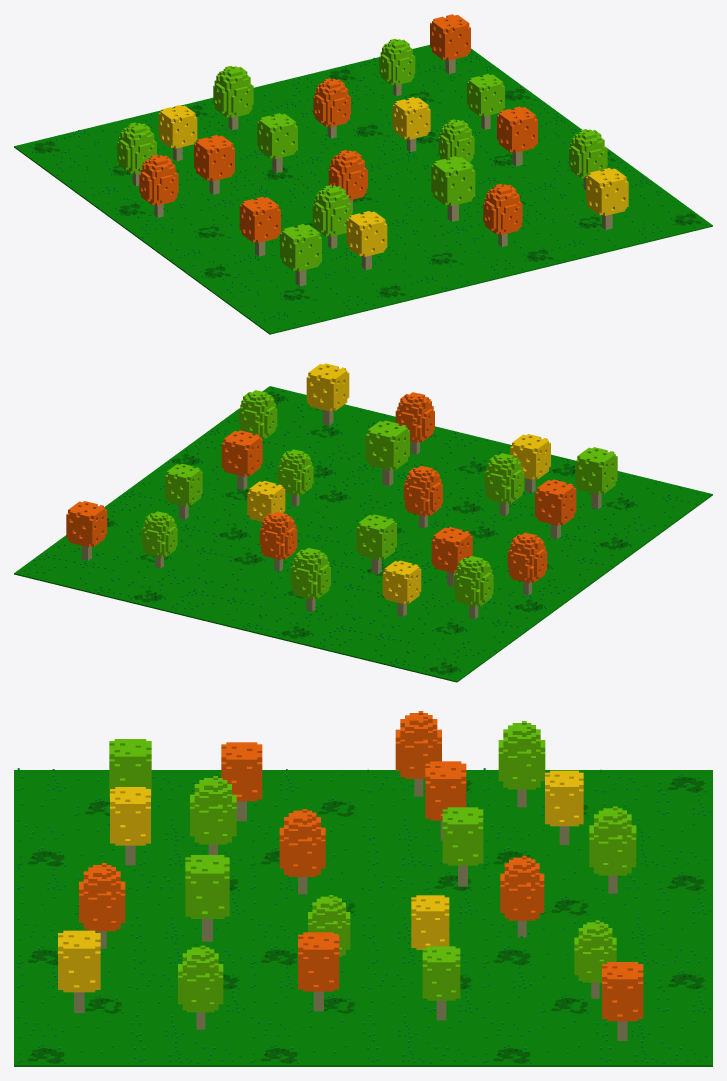
3 views of the same model, one above another, from view 1: azimuth 30°, elevation 25°; view 2: azimuth 150°, elevation 25°; view 3: azimuth 270°, elevation 25° (orthographic). The views are drawn at different scales.
Parts seen in each view (by area): view 1: Forrest_grass.002, obj_tree1.002, obj_tree1b.001, obj_tree2.005, obj_tree1, obj_tree2a.003, obj_tree2a.002, obj_tree1a, obj_tree2, obj_tree1a.003, obj_tree1a.001, obj_tree1a.002 (+11 smaller); view 2: Forrest_grass.002, obj_tree1.002, obj_tree1b.001, obj_tree1, obj_tree2.005, obj_tree2, obj_tree2.002, obj_tree2a.003, obj_tree1a.003, obj_tree1a, obj_tree2a, obj_tree1a.002 (+11 smaller); view 3: Forrest_grass.002, obj_tree2.005, obj_tree1.002, obj_tree2.002, obj_tree2a, obj_tree2, obj_tree2a.002, obj_tree2.003, obj_tree1b.001, obj_tree2a.003, obj_tree2a.001, obj_tree1a.002 (+11 smaller).
Boxes of the visible parts, x1,y1,x2,y2 form: Forrest_grass.002: (14,45,712,334); obj_tree1.002: (431,156,475,221); obj_tree1b.001: (586,168,628,229); obj_tree2.005: (213,66,253,130); obj_tree1: (280,224,321,285); obj_tree2a.003: (139,154,178,217); obj_tree2a.002: (483,184,522,246); obj_tree1a: (239,196,280,256); obj_tree2: (312,185,352,248); obj_tree1a.003: (430,14,470,73); obj_tree1a.001: (194,135,234,194); obj_tree1a.002: (497,106,537,166); Forrest_grass.002: (14,386,712,682); obj_tree1.002: (365,420,409,485); obj_tree1b.001: (306,363,349,425); obj_tree1: (575,447,617,509); obj_tree2.005: (290,548,330,611); obj_tree2: (484,453,524,516); obj_tree2.002: (454,556,493,618); obj_tree2a.003: (507,532,547,595); obj_tree1a.003: (66,501,107,560); obj_tree1a: (535,479,576,539); obj_tree2a: (403,466,442,528); obj_tree1a.002: (221,430,262,490); Forrest_grass.002: (14,768,712,1066); obj_tree2.005: (589,806,636,893); obj_tree1.002: (185,855,229,941); obj_tree2.002: (498,721,545,807); obj_tree2a: (279,809,325,894); obj_tree2: (190,776,236,854); obj_tree2a.002: (79,863,125,948); obj_tree2.003: (178,945,223,1029); obj_tree1b.001: (58,930,100,1012); obj_tree2a.003: (395,711,441,796); obj_tree2a.001: (500,855,544,937); obj_tree1a.002: (298,932,339,1011).
Bounding box in the file's own units: 378 × 48.46 × 378.
